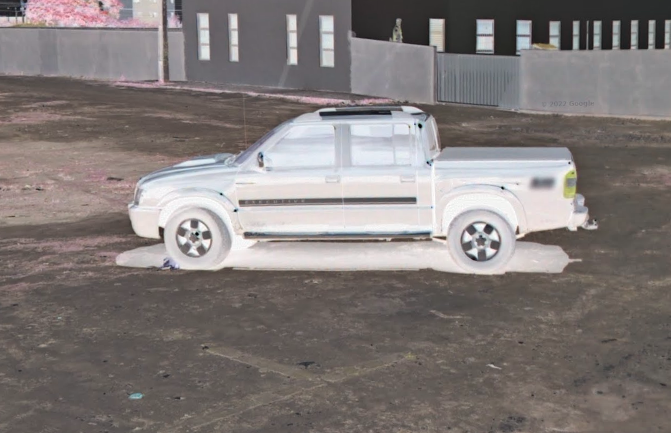car: (123, 100, 599, 270)
